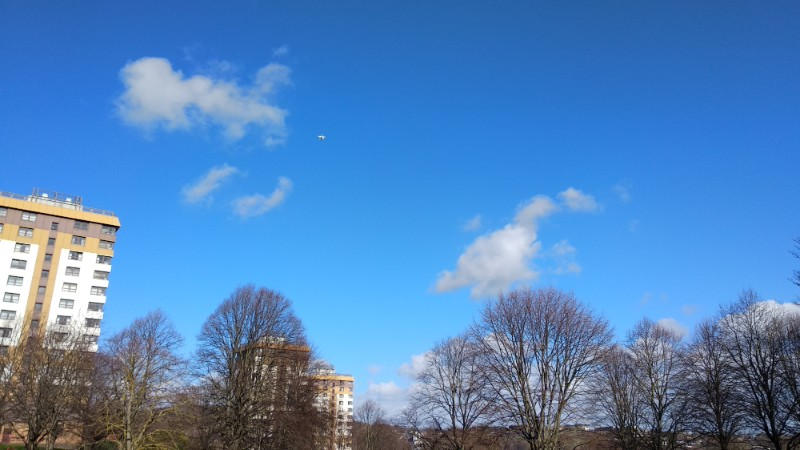drone: (316, 133, 327, 143)
